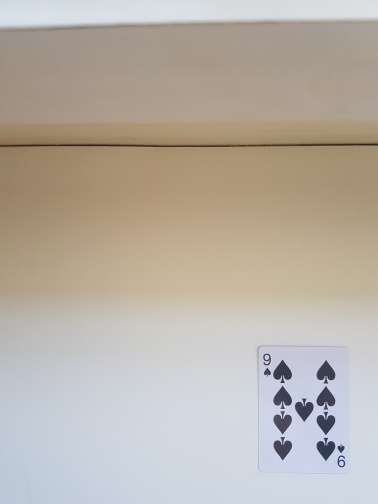nine: (256, 346, 351, 474)
